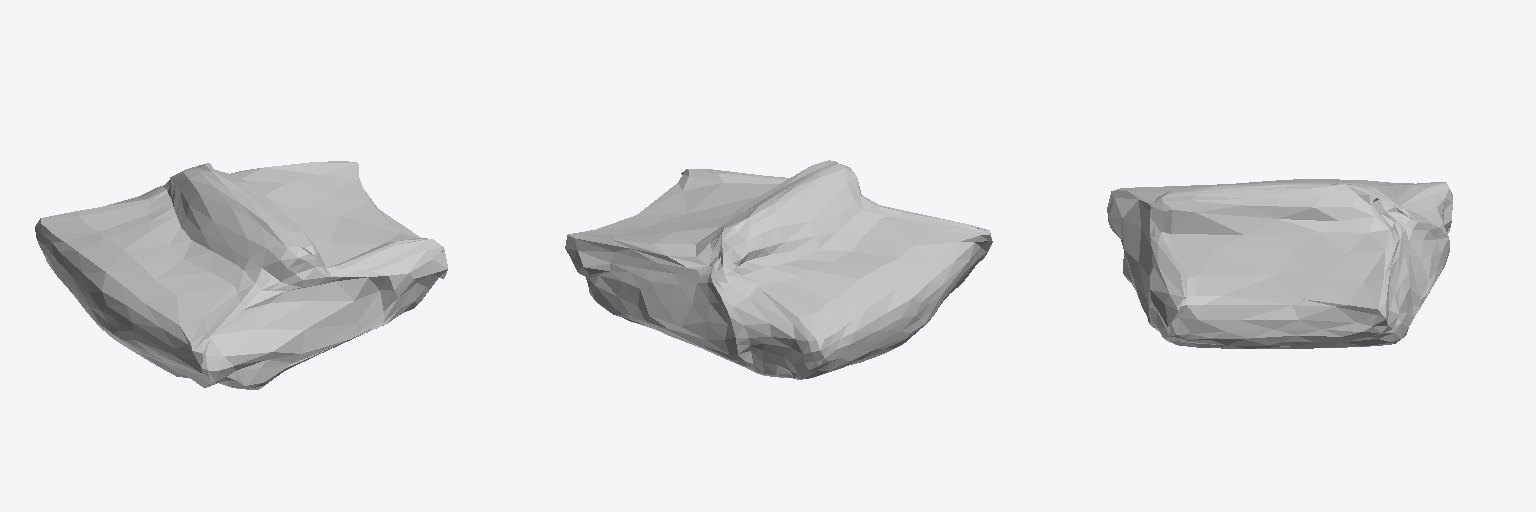
Rendered from video3_336.obj.
3 views of the same model, side by side, from view 1: azimuth 30°, elevation 25°; view 2: azimuth 150°, elevation 25°; view 3: azimuth 270°, elevation 25° (orthographic).
Size of the model in its own units: 1 by 0.4117 by 0.9885.